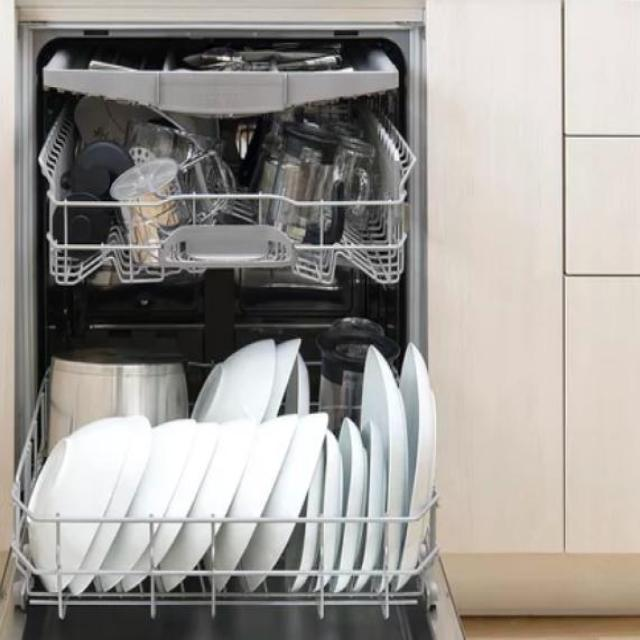dishwasher: (15, 14, 465, 639)
